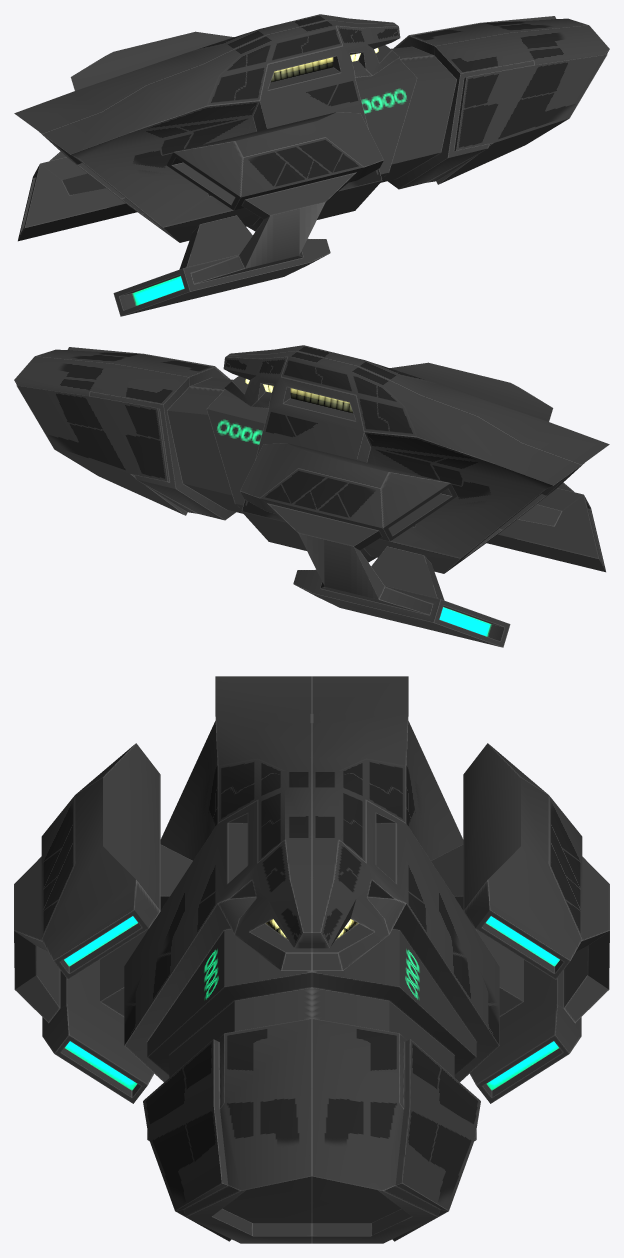
The model's file is Odyssey.fbx.
3 renders of one model, top to bottom at view 1: azimuth 30°, elevation 25°; view 2: azimuth 150°, elevation 25°; view 3: azimuth 270°, elevation 25°, orthographic. The views are drawn at different scales.
Visible parts, largest first — view 1: Cube; view 2: Cube; view 3: Cube.
Part boxes in pixels (x1,y1,x2,y2): Cube: [14, 14, 609, 316]; Cube: [14, 345, 609, 647]; Cube: [14, 676, 609, 1243].
Size of the model in its own units: 1146 by 392 by 631.
Materials: 1 (1 with a texture image).
